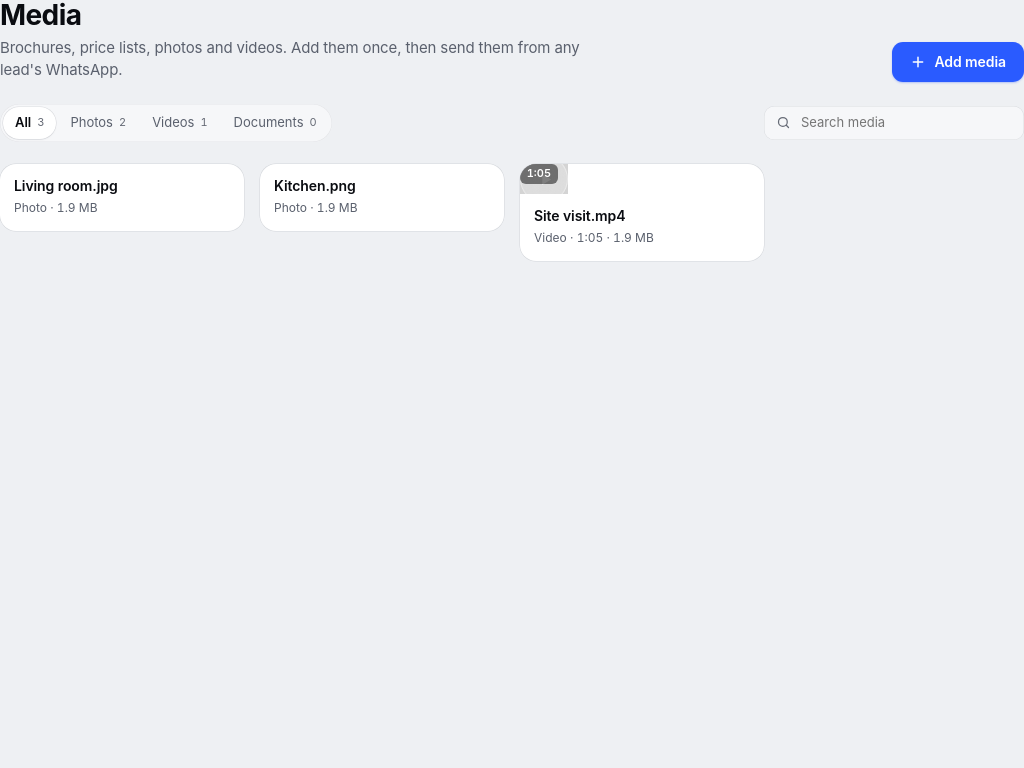
Test case: LUME's own viewer (plan 2026-10-20-media-tab, Task 7) › opens the file it was asked for, in LUME, and Escape gives focus back to its tile
Click the button "Kitchen.png Photo · 1.9 MB" at (382, 197), box [260,164,504,230]
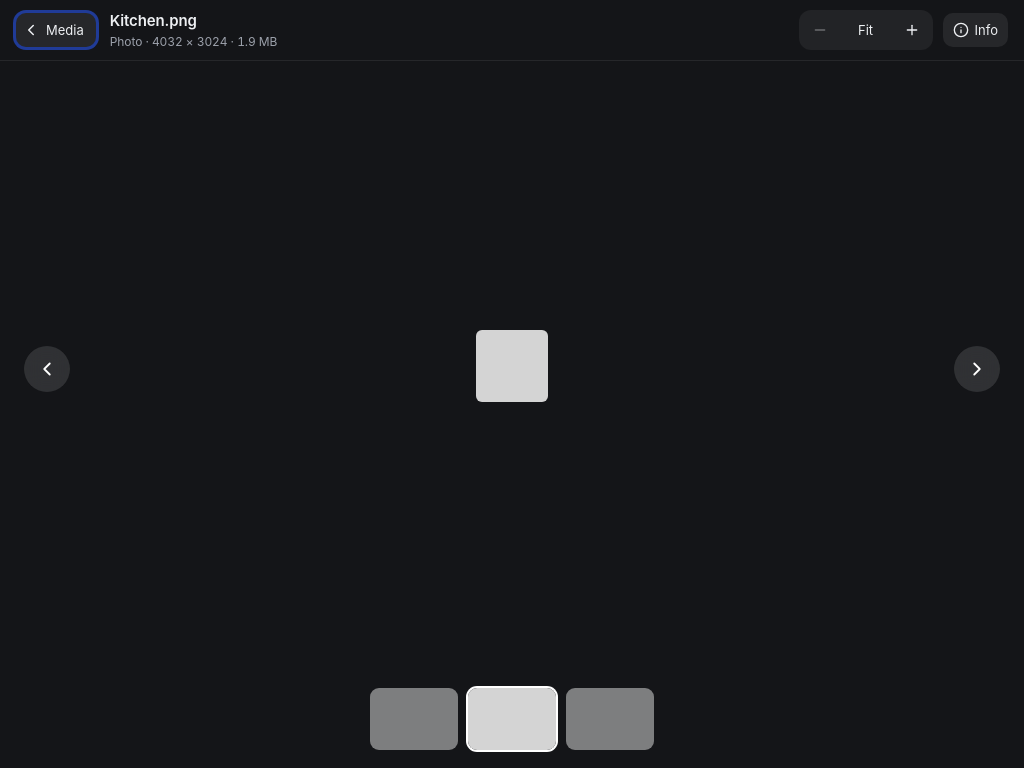
Check: the text "Photo · 4032 × 3024 · 1.9 MB" is shown, box [110,33,277,50]
Press Escape
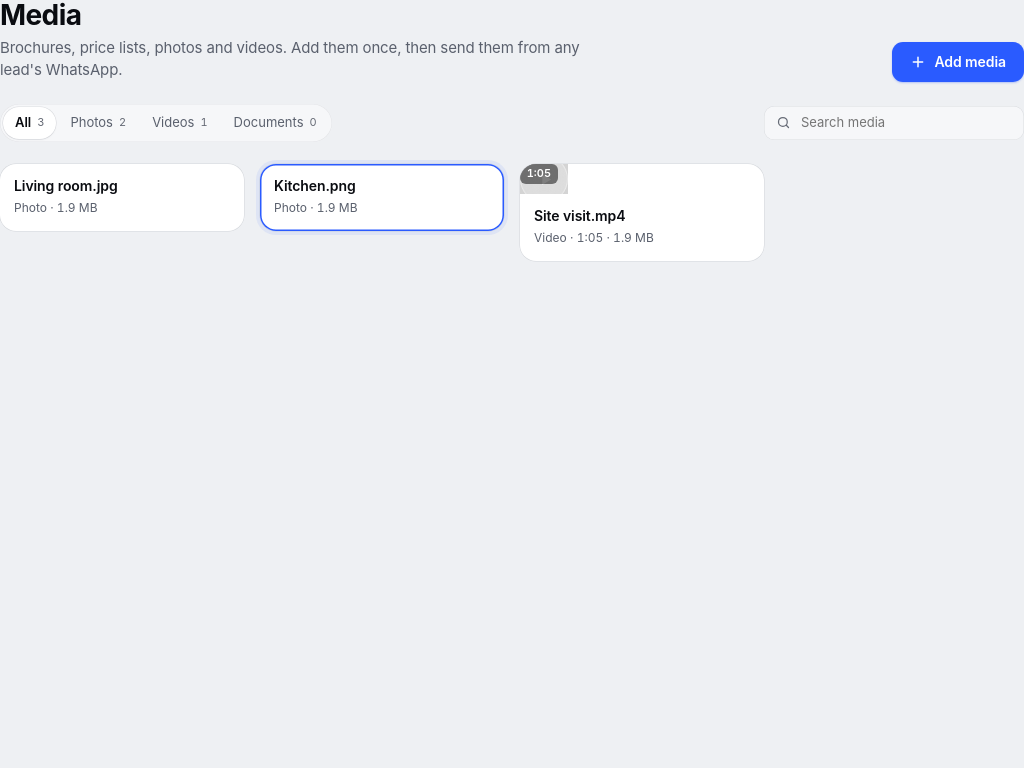
Check: the dialog is gone
